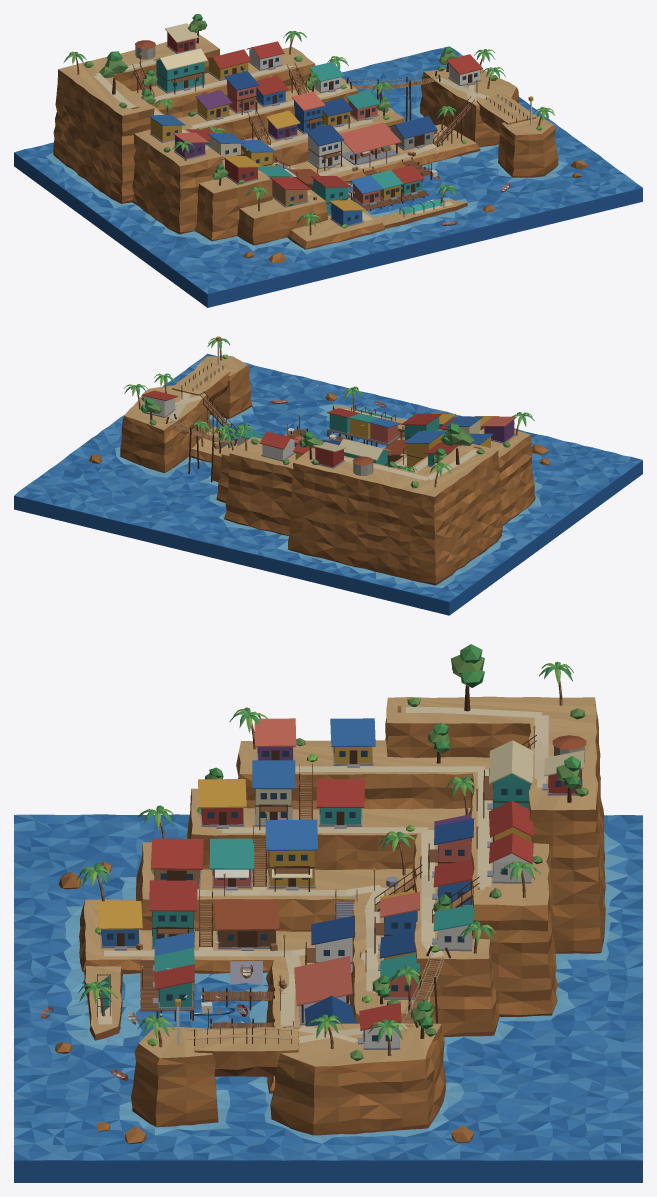
File: village_massing_v02.glb
The picture shows the model from 3 angles, top to bottom: view 1: azimuth 30°, elevation 25°; view 2: azimuth 150°, elevation 25°; view 3: azimuth 270°, elevation 25°; orthographic projection. The views are drawn at different scales.
Visible parts, largest first — view 1: water_surface, water_slab, terrain_T5, terrain_T4, terrain_T3, paths, terrain_T2, terrain_T5_top, terrain_ST, terrain_HD, terrain_T1_top, terrain_T4_top (+36 smaller); view 2: water_surface, terrain_T5, water_slab, terrain_T4, terrain_HD, terrain_T5_top, veg_palm_fronds, terrain_ST, veg_tree_canopies, paths, terrain_T4_top, terrain_HD_top (+10 smaller); view 3: water_surface, water_slab, terrain_T5, terrain_T4, terrain_HD, paths, terrain_T3, terrain_T5_top, terrain_T4_top, terrain_ST, terrain_T2_top, terrain_T3_top (+48 smaller).
Boxes of the visible parts, <box> form: water_surface: <box>14,46,642,293</box>; water_slab: <box>14,152,642,307</box>; terrain_T5: <box>53,49,219,203</box>; terrain_T4: <box>132,63,315,234</box>; terrain_T3: <box>195,90,358,241</box>; paths: <box>94,58,489,220</box>; terrain_T2: <box>237,118,404,245</box>; terrain_T5_top: <box>58,34,219,115</box>; terrain_ST: <box>498,123,558,177</box>; terrain_HD: <box>420,72,518,147</box>; terrain_T1_top: <box>286,124,476,241</box>; terrain_T4_top: <box>133,47,314,166</box>; water_surface: <box>14,353,642,601</box>; terrain_T5: <box>288,450,502,585</box>; water_slab: <box>14,460,642,615</box>; terrain_T4: <box>224,435,535,535</box>; terrain_HD: <box>120,394,211,472</box>; terrain_T5_top: <box>293,443,497,496</box>; veg_palm_fronds: <box>123,338,534,476</box>; terrain_ST: <box>209,365,252,418</box>; veg_tree_canopies: <box>140,398,515,468</box>; paths: <box>168,392,483,480</box>; terrain_T4_top: <box>230,428,530,474</box>; terrain_HD_top: <box>124,385,206,430</box>; water_surface: <box>14,814,642,1160</box>; water_slab: <box>14,1159,642,1182</box>; terrain_T5: <box>385,701,605,953</box>; terrain_T4: <box>236,753,558,1016</box>; terrain_HD: <box>270,1024,445,1135</box>; paths: <box>97,707,548,1042</box>; terrain_T3: <box>187,790,499,1037</box>; terrain_T5_top: <box>386,696,597,810</box>; terrain_T4_top: <box>238,740,548,905</box>; terrain_ST: <box>131,1043,218,1127</box>; terrain_T2_top: <box>142,842,430,1013</box>; terrain_T3_top: <box>191,788,490,959</box>.
Size of the model in its own units: 100 by 30.98 by 77.
